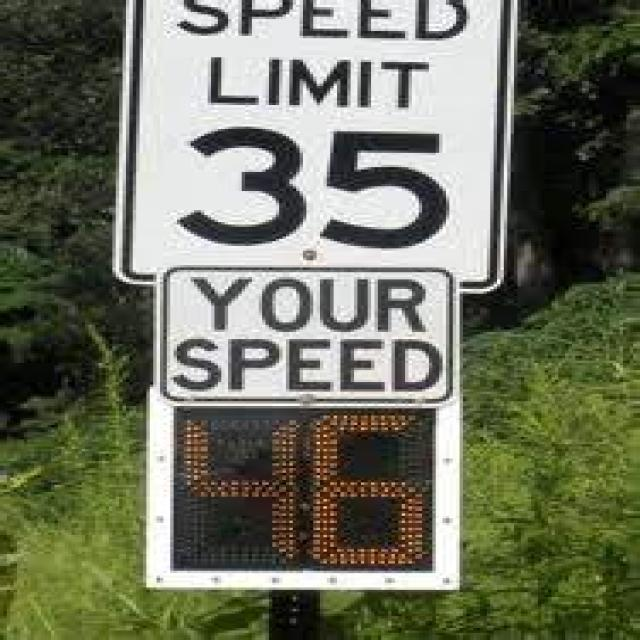speedLimit35: (126, 0, 501, 593)
